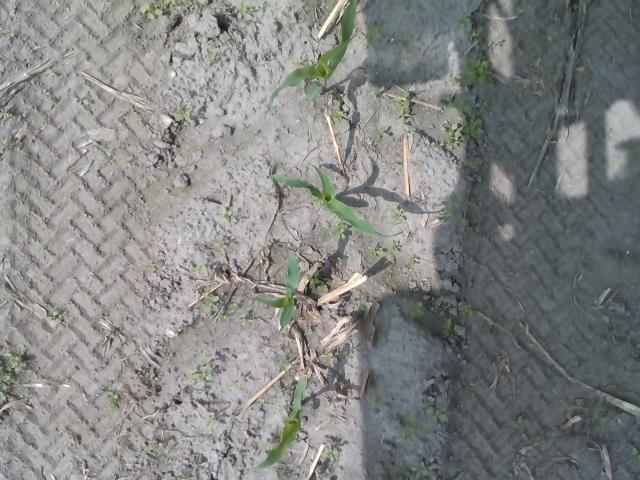Maize: (268, 0, 358, 112), (273, 163, 383, 238), (252, 376, 306, 469), (257, 251, 299, 329)
Weeds: (445, 97, 490, 145), (0, 350, 28, 403), (461, 56, 494, 86), (448, 192, 472, 224), (187, 355, 210, 384), (228, 303, 253, 325), (394, 92, 412, 120), (439, 318, 463, 338), (422, 404, 448, 422), (138, 2, 164, 19), (402, 414, 422, 436), (366, 24, 384, 48), (308, 271, 324, 294), (103, 390, 120, 408), (409, 302, 425, 320), (202, 294, 218, 311), (458, 304, 476, 318), (320, 352, 337, 366), (47, 310, 65, 323), (415, 466, 430, 480), (332, 108, 346, 122), (334, 224, 346, 240), (474, 24, 486, 40), (224, 210, 236, 226), (458, 16, 471, 30), (464, 158, 482, 168), (388, 243, 401, 256), (540, 30, 554, 42), (216, 238, 230, 250), (256, 243, 272, 253), (149, 370, 159, 385), (324, 450, 336, 462), (376, 126, 388, 138), (392, 208, 402, 222), (240, 3, 252, 13), (392, 470, 404, 480), (373, 82, 385, 92), (178, 109, 190, 119), (264, 184, 276, 194), (369, 249, 383, 257), (0, 110, 10, 121), (280, 364, 290, 374), (146, 260, 156, 270), (410, 256, 420, 266), (174, 324, 182, 336), (162, 0, 176, 6), (170, 475, 177, 480)
